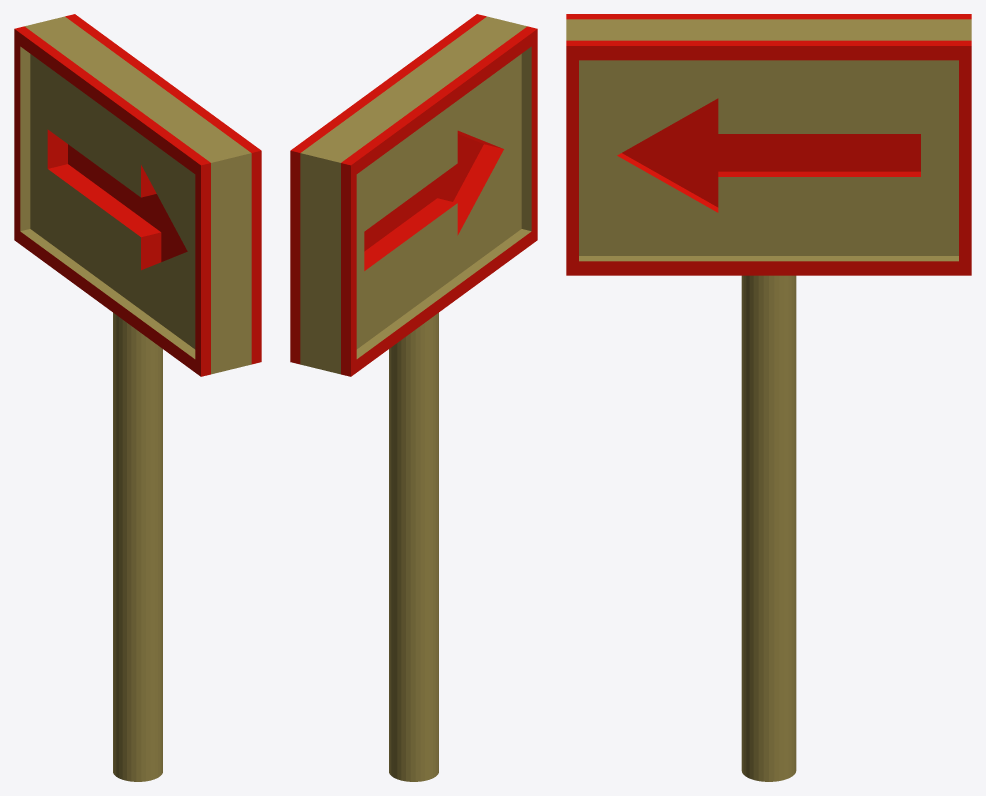
Rendered from Signs.fbx.
3 views of the same model, side by side, from view 1: azimuth 30°, elevation 25°; view 2: azimuth 150°, elevation 25°; view 3: azimuth 270°, elevation 25° (orthographic). The views are drawn at different scales.
Visible parts, largest first — view 1: Cylinder; view 2: Cylinder; view 3: Cylinder.
Part boxes in pixels (x1=…): Cylinder: x1=14, y1=14, x2=261, y2=781; Cylinder: x1=290, y1=14, x2=537, y2=781; Cylinder: x1=566, y1=14, x2=971, y2=781.
Bounding box in the file's own units: 60 × 645 × 320.
